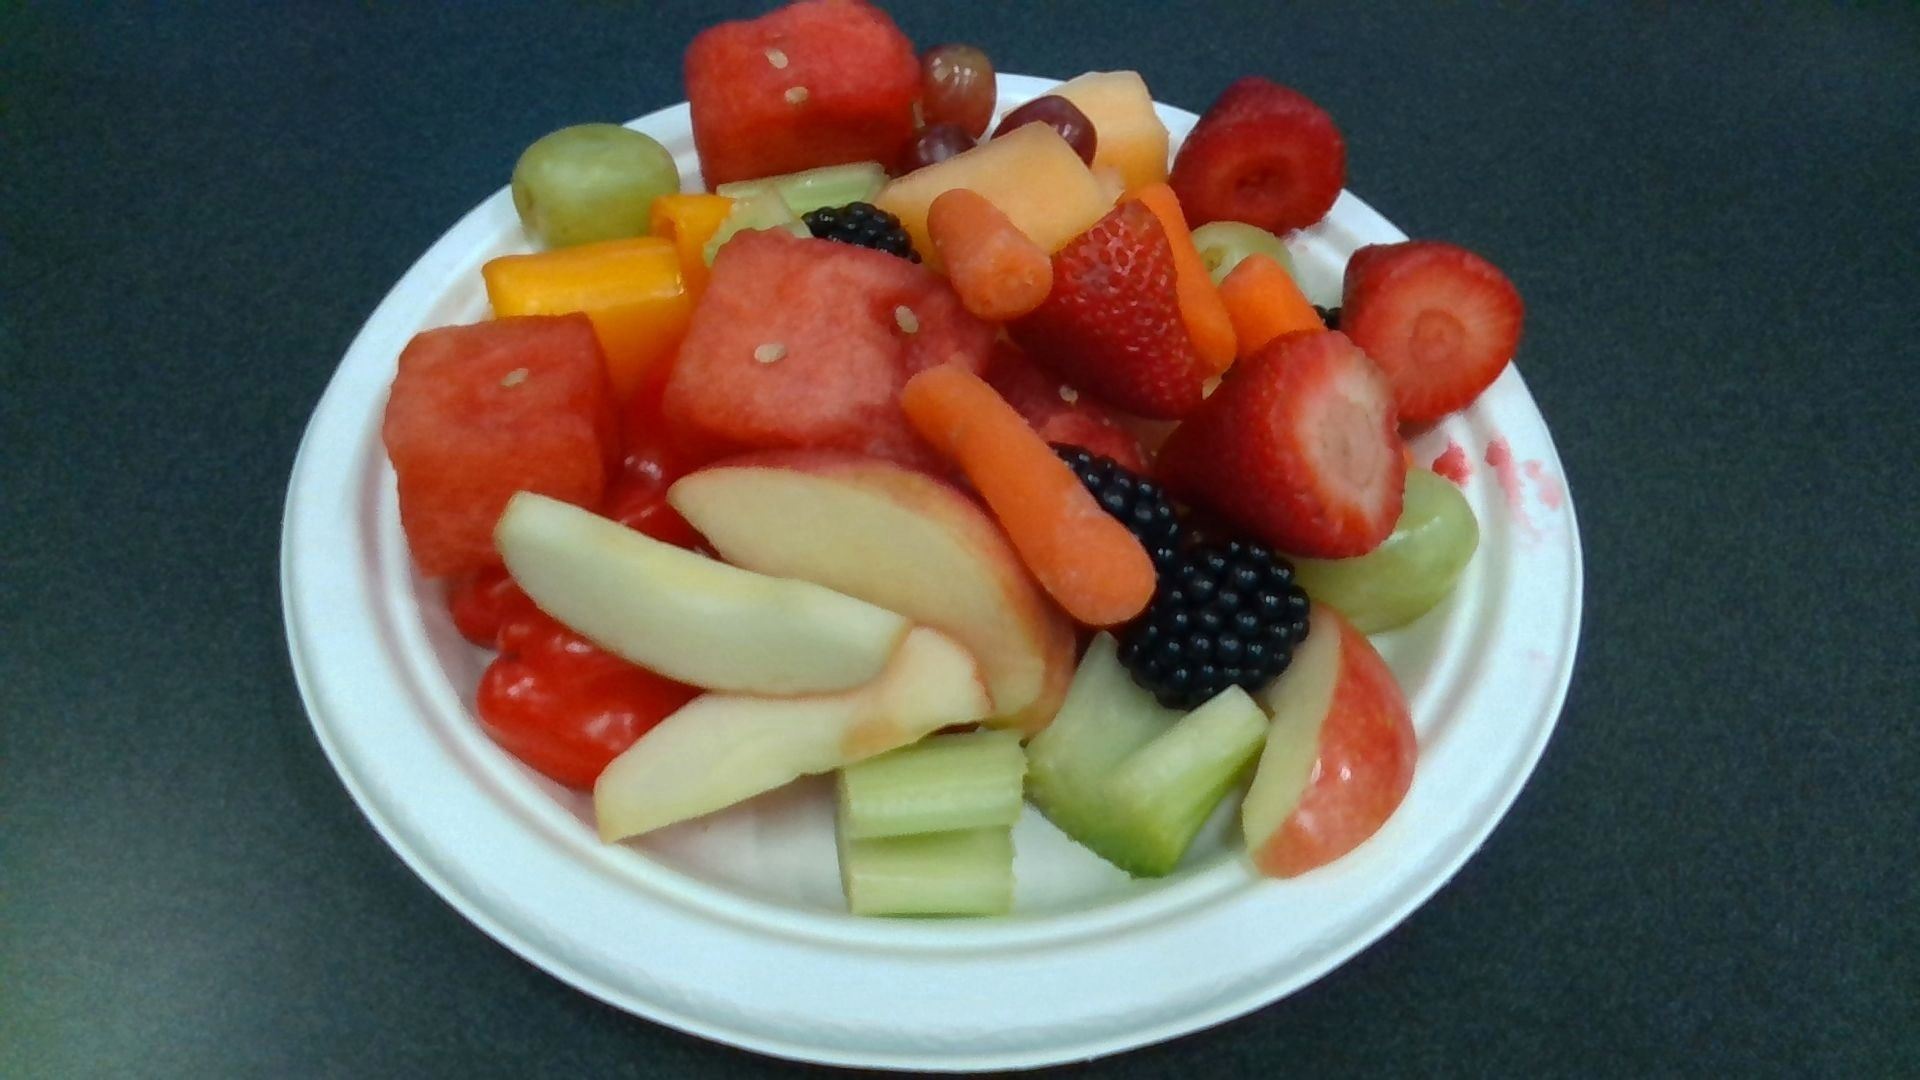apple: (667, 450, 1077, 728), (593, 622, 996, 841), (497, 491, 909, 696), (1244, 603, 1418, 880)
bell_pepper: (483, 237, 688, 371)
blackberry: (1114, 538, 1305, 705)
cantalope: (880, 121, 1112, 265)
carrot: (905, 361, 1156, 625), (927, 190, 1054, 316)
celery: (1027, 630, 1267, 872), (833, 727, 1022, 911)
grape_green: (1284, 471, 1480, 630), (510, 123, 679, 241)
grape_purple: (916, 45, 996, 141)
melon: (659, 228, 1004, 473), (384, 309, 604, 578), (680, 1, 919, 193)
strawberry: (1156, 331, 1404, 556), (1010, 200, 1203, 411), (1344, 245, 1522, 421), (1164, 78, 1346, 236)
